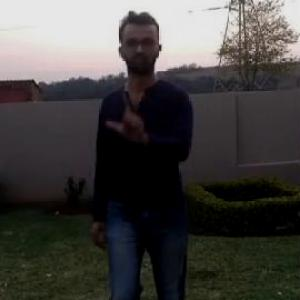land_hand: (106, 86, 148, 142)
